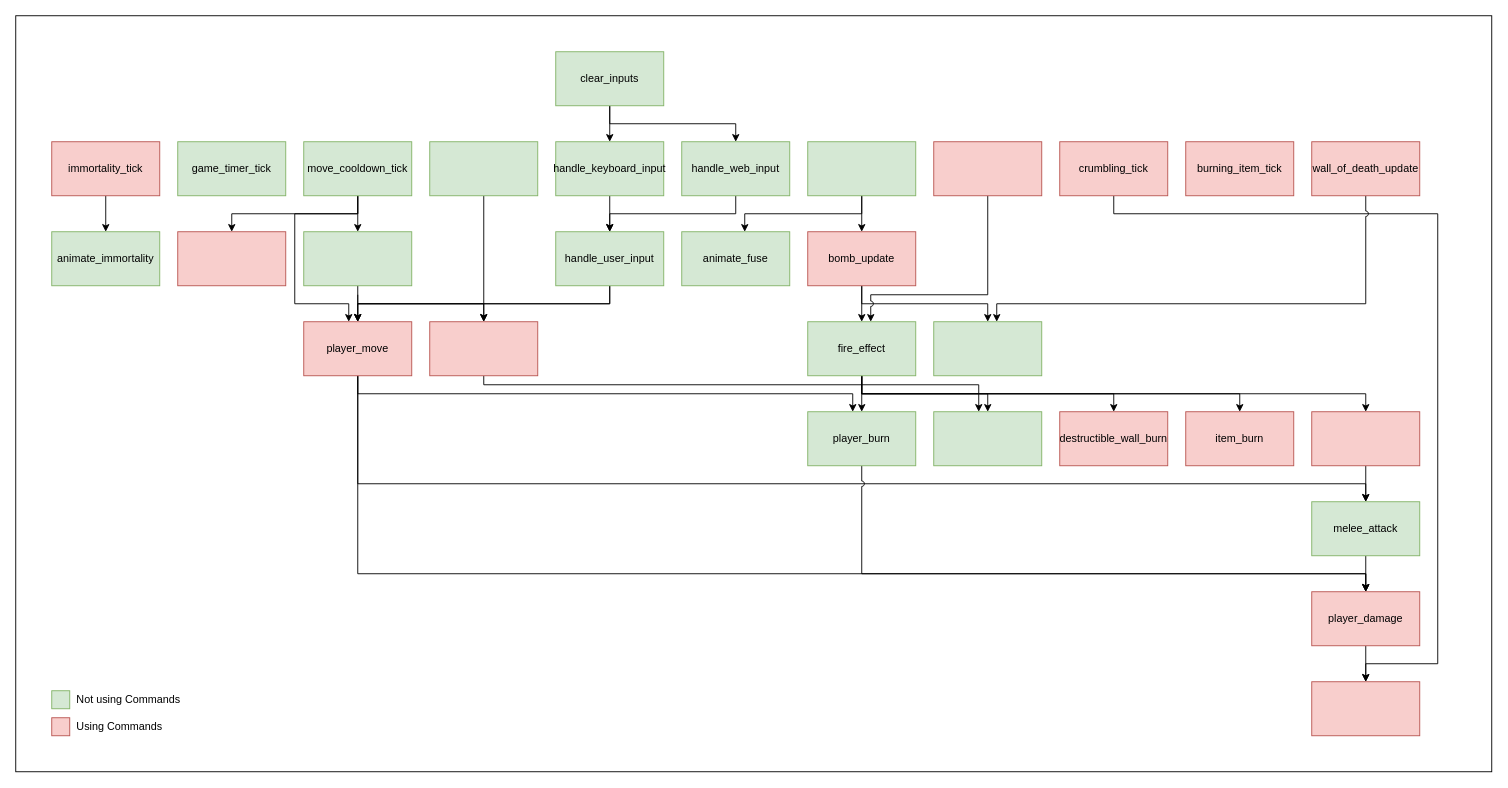
The diagram is 1508 pixels wide and 788 high, and some of its shapes have lost their labels. Here are the shapes that lost their labels. From the top down, the centre of each, then its label:
At point 483,168: "mob_ai".
At point 861,168: "bomb_tick".
At point 987,168: "fire_tick".
At point 231,258: "moving_object_update".
At point 357,258: "bot_ai".
At point 483,348: "bomb_drop".
At point 987,348: "bomb_restock".
At point 987,438: "bomb_burn".
At point 1365,438: "exit_burn".
At point 1365,708: "pick_up_item".
